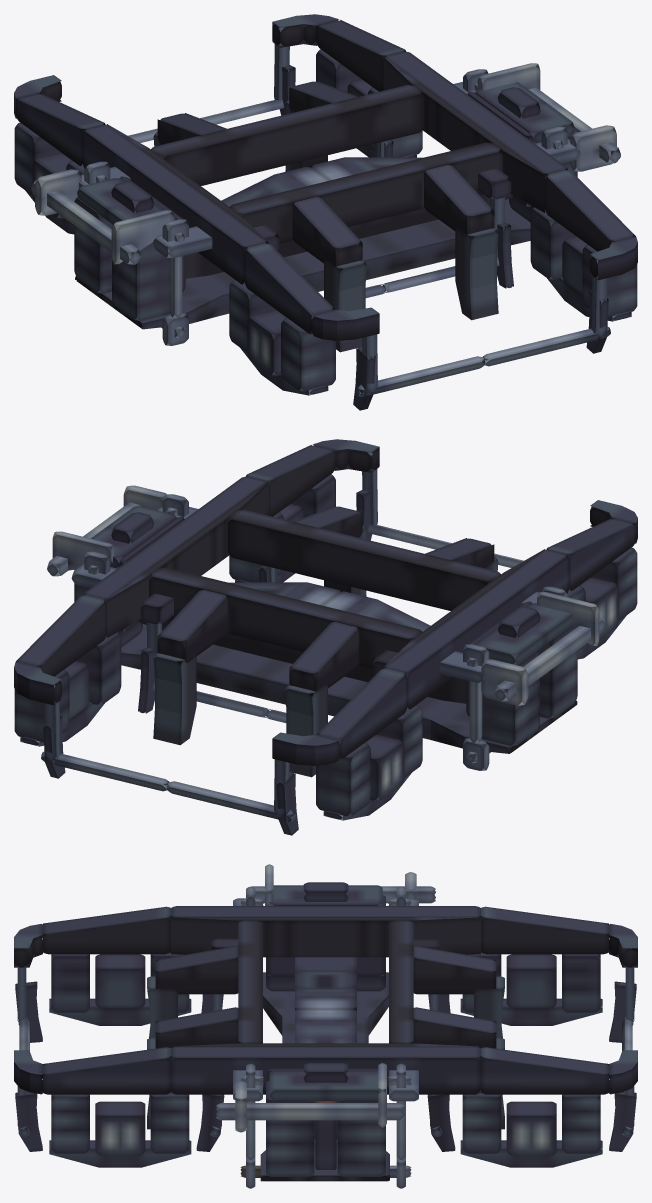
The model's file is pk209_nomotor.obj.
3 renders of one model, top to bottom at view 1: azimuth 30°, elevation 25°; view 2: azimuth 150°, elevation 25°; view 3: azimuth 270°, elevation 25°, orthographic. The views are drawn at different scales.
Visible parts, largest first — view 1: 架体; view 2: 架体; view 3: 架体.
Boxes of the visible parts, <box> form: 架体: <box>14,14,637,410</box>; 架体: <box>14,439,637,835</box>; 架体: <box>14,864,637,1188</box>.
Bounding box in the file's own units: 3.15 × 0.765 × 3.65.
